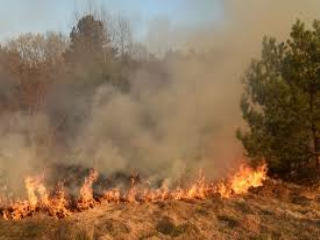fire: (9, 155, 271, 212)
